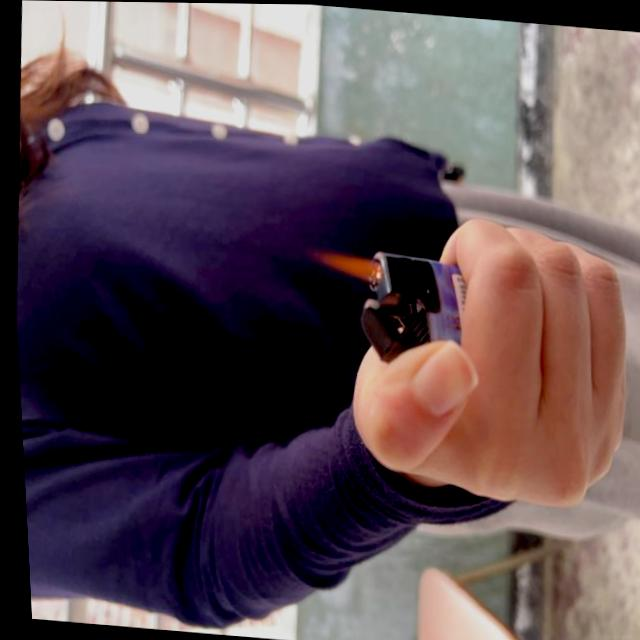Fire: (299, 245, 383, 285)
